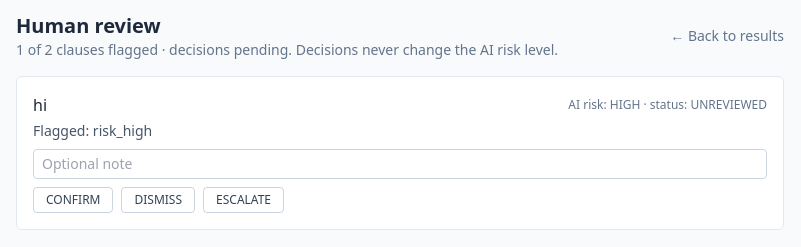
Test: ReviewScreen › lists only flagged clauses and submits a decision with its note
expect the text "hi" is shown: met, box [33,93,47,117]
In the field named "Note for hi": (400, 164) [33,149,767,179], type "lawyer"
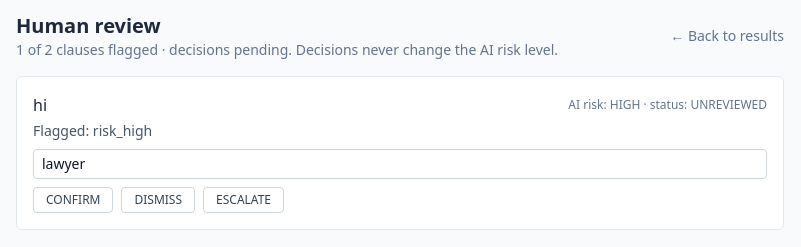
Click the button "ESCALATE": (244, 200) [203,187,284,213]
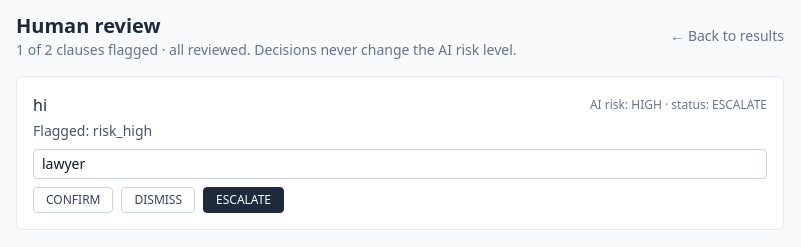
expect the text "all reviewed" is shown: met, box [169,40,247,59]
